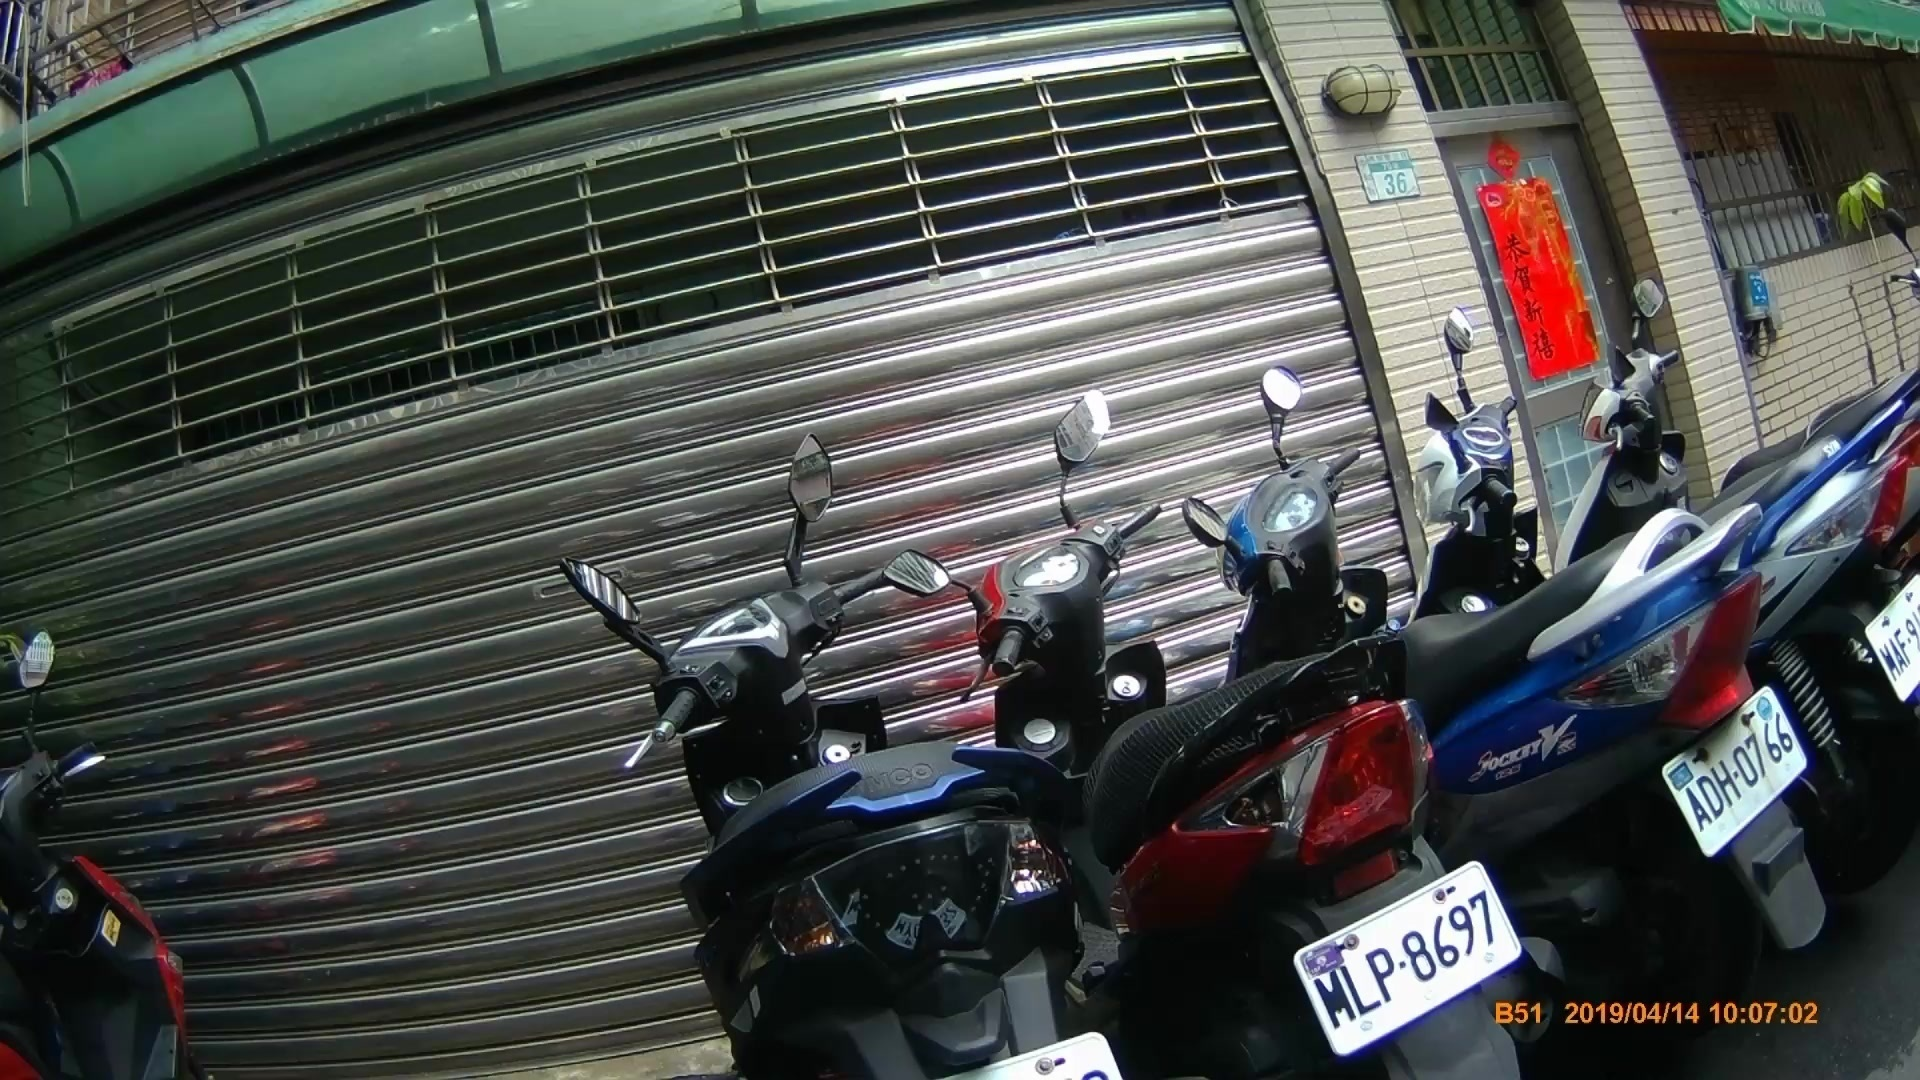License_plate: (1271, 863, 1552, 1044), (1635, 699, 1825, 850)
